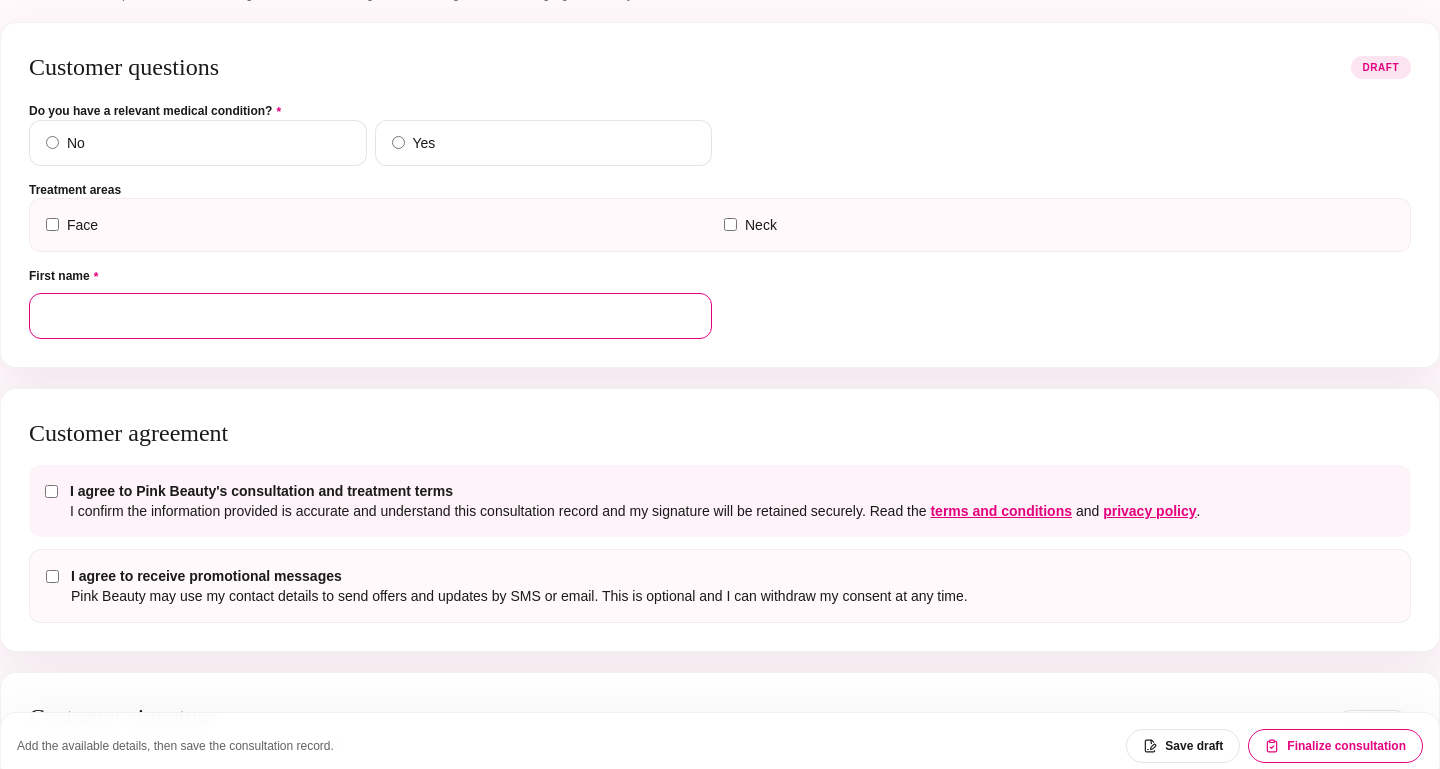
Test: quiet consultation autosave › autosaves incomplete answers without validation, focus loss, a popup or disabled save controls
Step 1. Type "Synthetic" into the field labelled "First name *" → [370, 316], box [29,293,712,339]
Wait 2000 ms
(page scrolled)
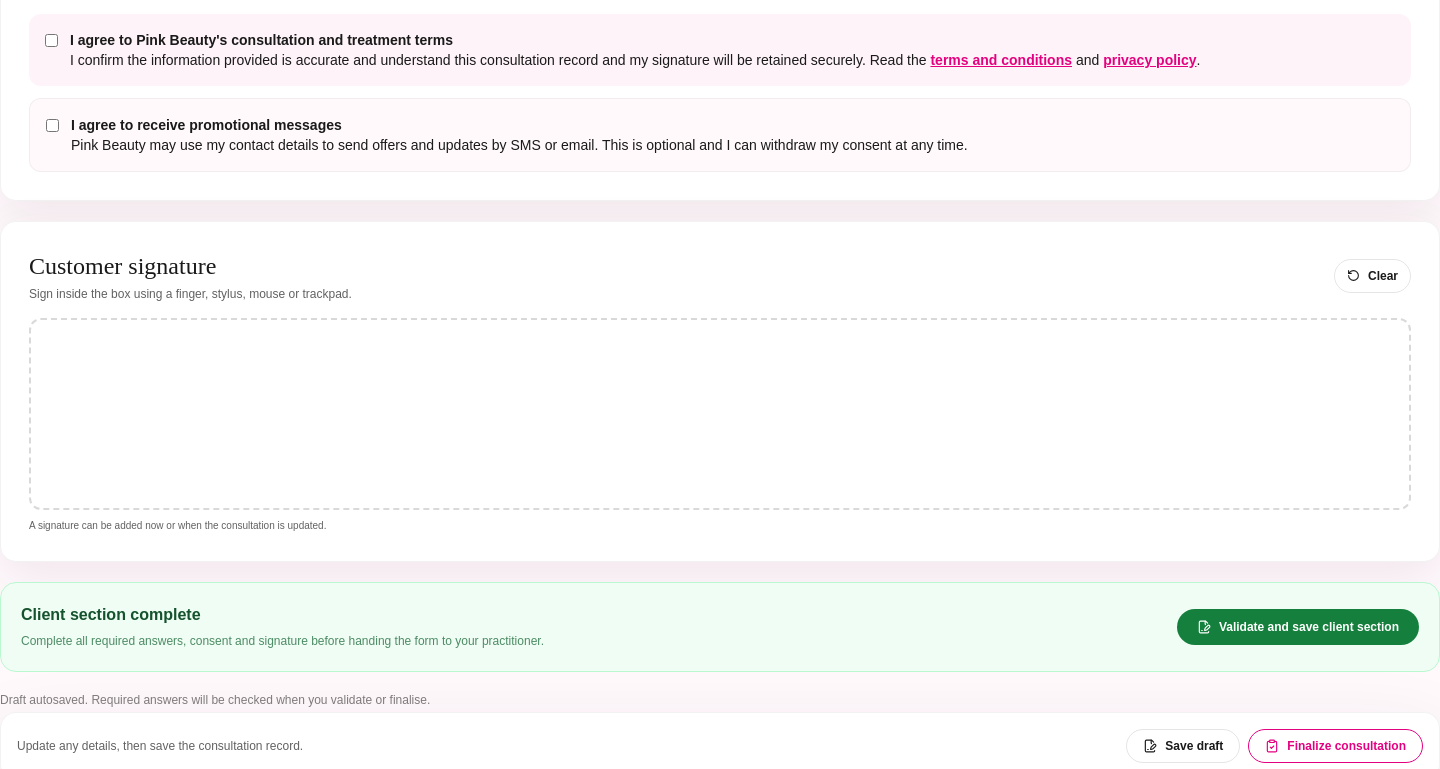
Expected: the button "Save draft" is enabled, [1126,729,1240,763]
Now the text "Draft autosaved" is shown, box [0,693,430,707]
